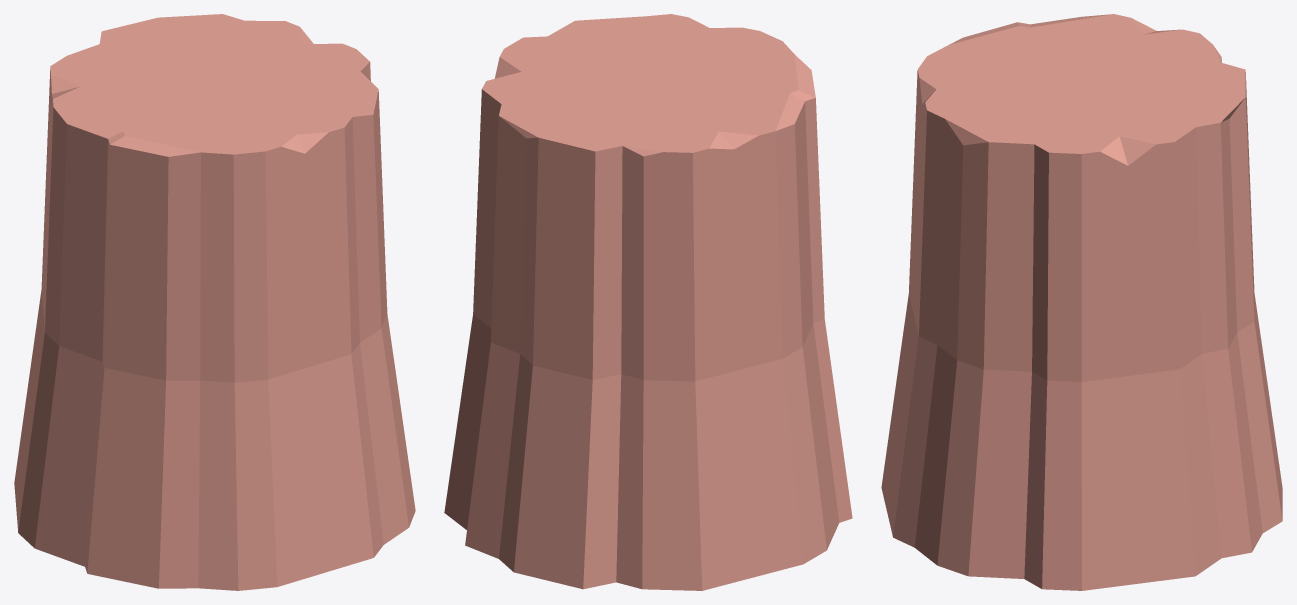
Rendered from Cylinder_036_Vlad.fbx.
3 renders of one model, left to right at view 1: azimuth 30°, elevation 25°; view 2: azimuth 150°, elevation 25°; view 3: azimuth 270°, elevation 25°, orthographic.
Visible parts, largest first — view 1: Cylinder.036; view 2: Cylinder.036; view 3: Cylinder.036.
Part boxes in pixels (box(x1,y1,x2,y2)): Cylinder.036: box(14, 14, 415, 590); Cylinder.036: box(444, 14, 852, 590); Cylinder.036: box(881, 14, 1282, 590).
Size of the model in its own units: 440 by 500 by 432.
